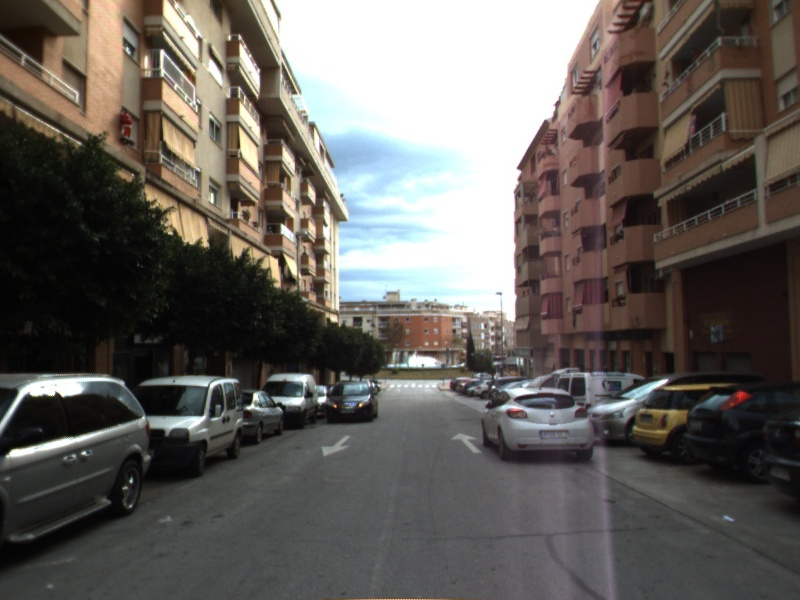STRAIGHT: (449, 430, 483, 455)
